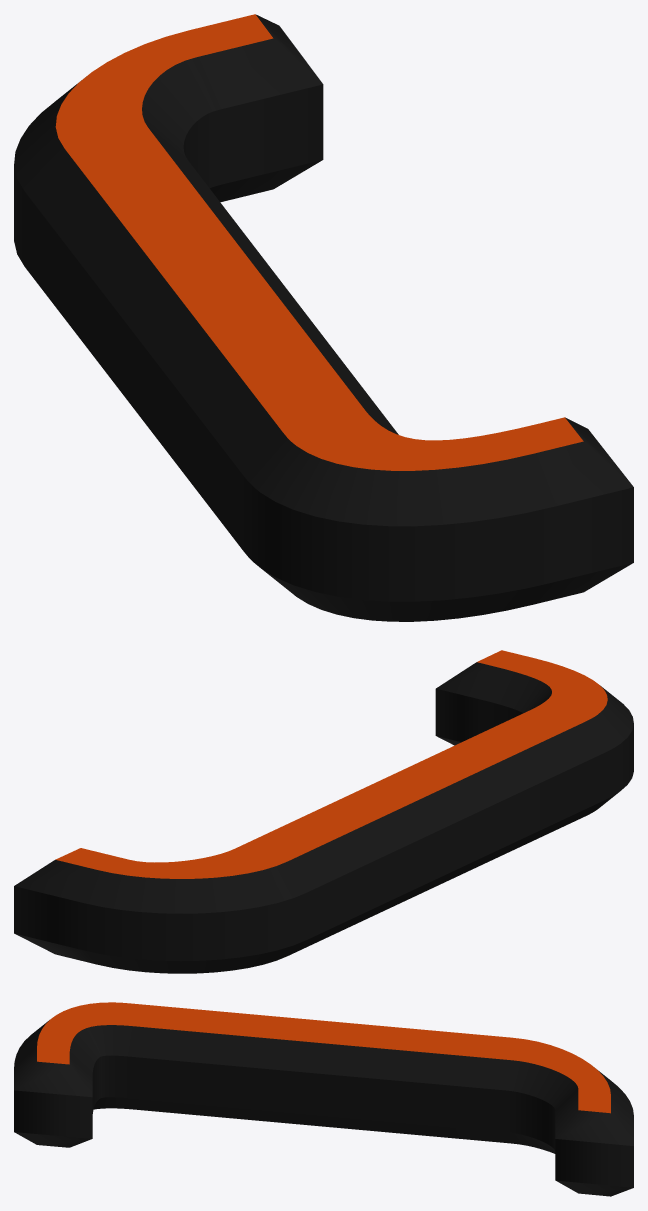
The model's file is ParanthèseOuvrante.fbx.
3 views of the same model, one above another, from view 1: azimuth 30°, elevation 25°; view 2: azimuth 150°, elevation 25°; view 3: azimuth 270°, elevation 25° (orthographic). The views are drawn at different scales.
Visible parts, largest first — view 1: Text; view 2: Text; view 3: Text.
Part boxes in pixels (box(x1,y1,x2,y2)): Text: box(14, 14, 633, 621); Text: box(14, 650, 633, 973); Text: box(14, 1002, 633, 1196).
Size of the model in its own units: 0.5465 by 0.16 by 1.08.
